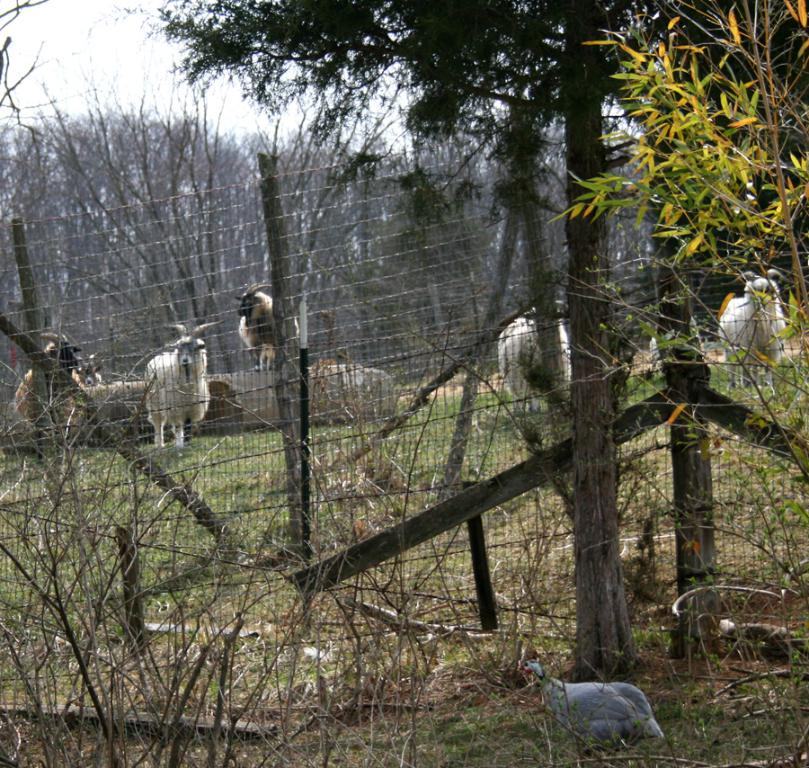Animal: (7, 327, 236, 449), (513, 660, 660, 740), (138, 311, 217, 452), (712, 254, 787, 397), (489, 299, 567, 421), (229, 280, 286, 358), (66, 348, 102, 391)
